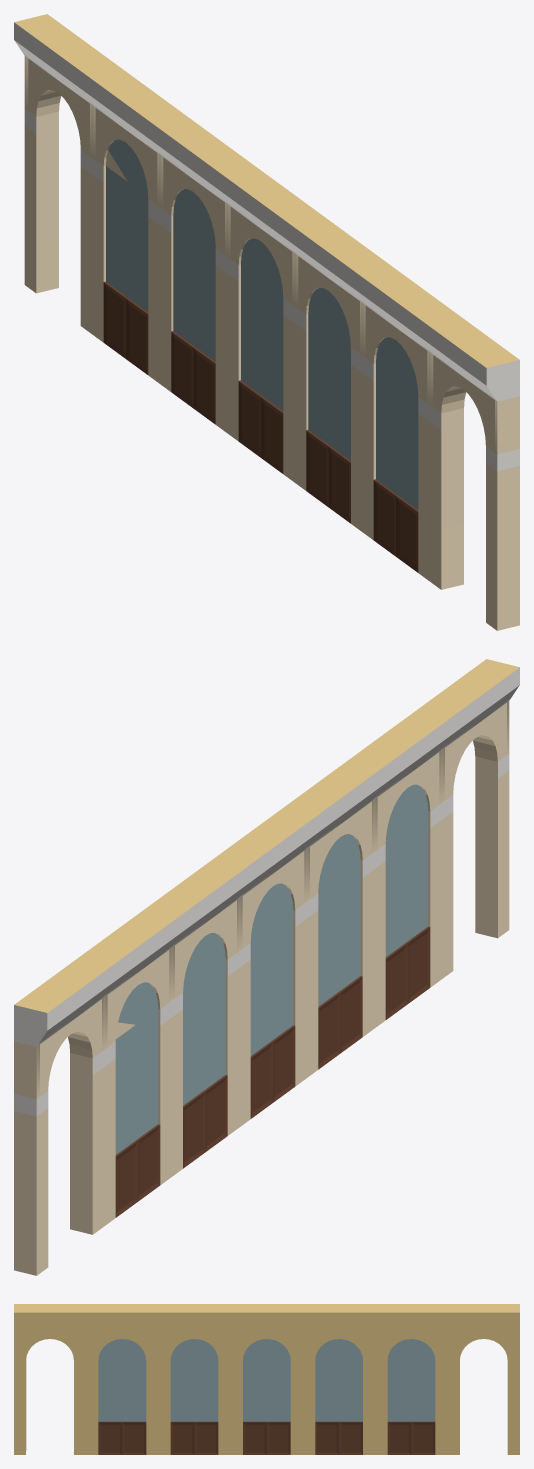
File: Hall_Mur02.fbx
3 views of the same model, one above another, from view 1: azimuth 30°, elevation 25°; view 2: azimuth 150°, elevation 25°; view 3: azimuth 270°, elevation 25° (orthographic). The views are drawn at different scales.
Visible parts, largest first — view 1: Mur02; view 2: Mur02; view 3: Mur02.
Boxes of the visible parts, x1,y1,x2,y2 form: Mur02: [14, 14, 519, 630]; Mur02: [14, 659, 519, 1275]; Mur02: [14, 1304, 519, 1454].
Size of the model in its own units: 0.8405 by 6.37 by 20.55.
